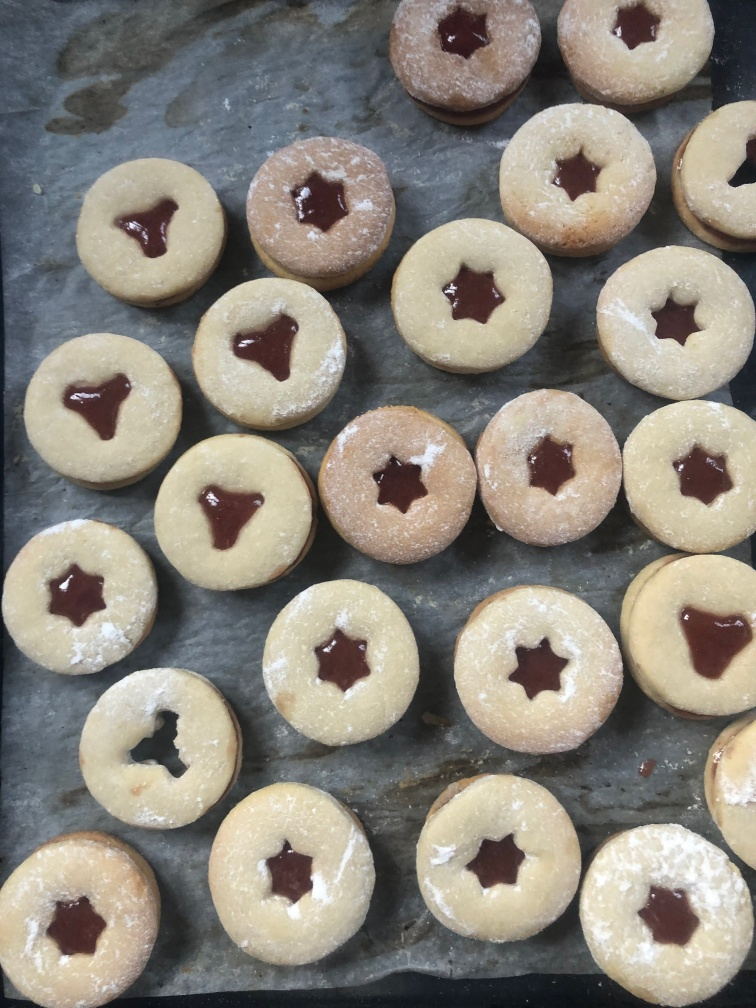christmas shortbread with jam: (579, 822, 751, 1005), (451, 584, 624, 755), (411, 771, 578, 942), (211, 789, 374, 963), (3, 839, 166, 1001), (77, 669, 236, 834), (21, 329, 183, 486), (321, 406, 477, 566), (395, 219, 554, 375), (157, 432, 308, 594), (5, 520, 156, 682), (262, 580, 413, 740), (596, 250, 755, 401), (73, 157, 232, 308), (495, 102, 657, 249), (194, 274, 350, 426), (484, 393, 622, 556), (248, 137, 400, 283), (620, 557, 755, 719), (623, 399, 755, 555), (383, 1, 540, 122), (558, 1, 716, 103), (676, 102, 756, 249)
